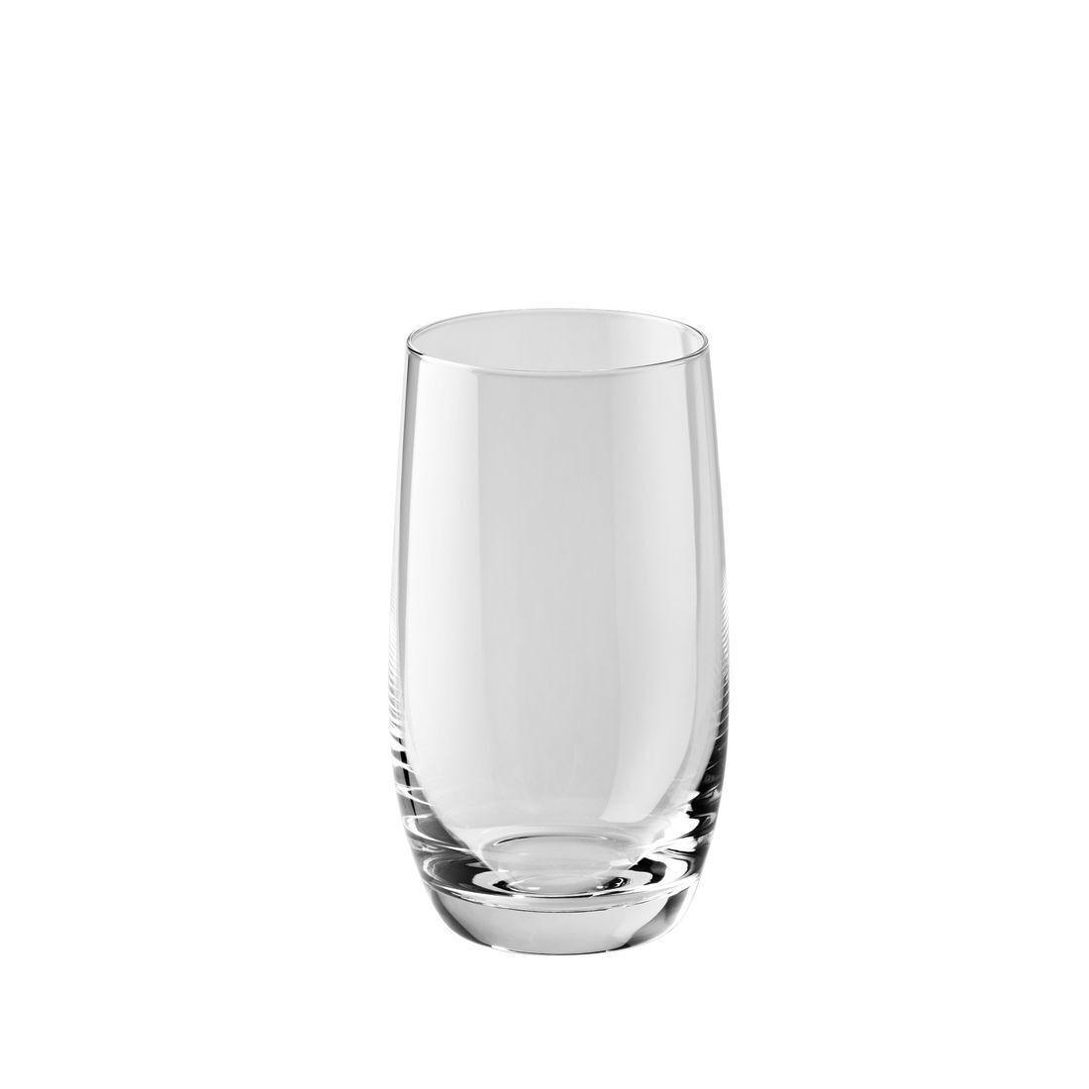glass-normal: (379, 304, 740, 959)
